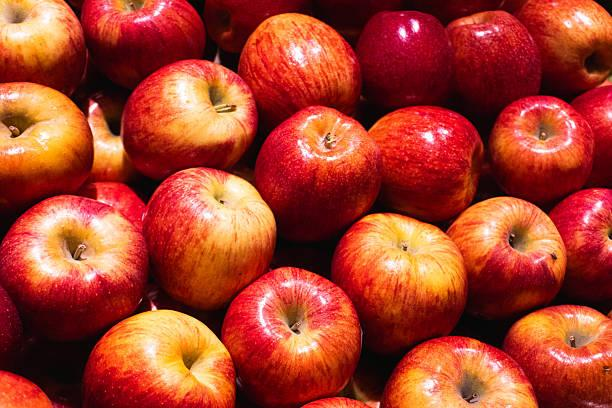apple: (1, 192, 144, 333), (226, 259, 362, 404), (143, 167, 277, 301), (75, 305, 235, 408), (119, 56, 258, 172), (345, 216, 466, 346), (269, 102, 381, 238), (462, 181, 568, 321), (238, 12, 366, 120), (374, 102, 483, 221), (383, 332, 536, 408), (509, 301, 612, 408), (1, 80, 93, 198), (493, 86, 591, 195), (362, 7, 454, 109), (0, 0, 90, 97), (452, 6, 537, 106), (522, 0, 612, 90), (82, 0, 202, 67), (557, 182, 612, 305)
